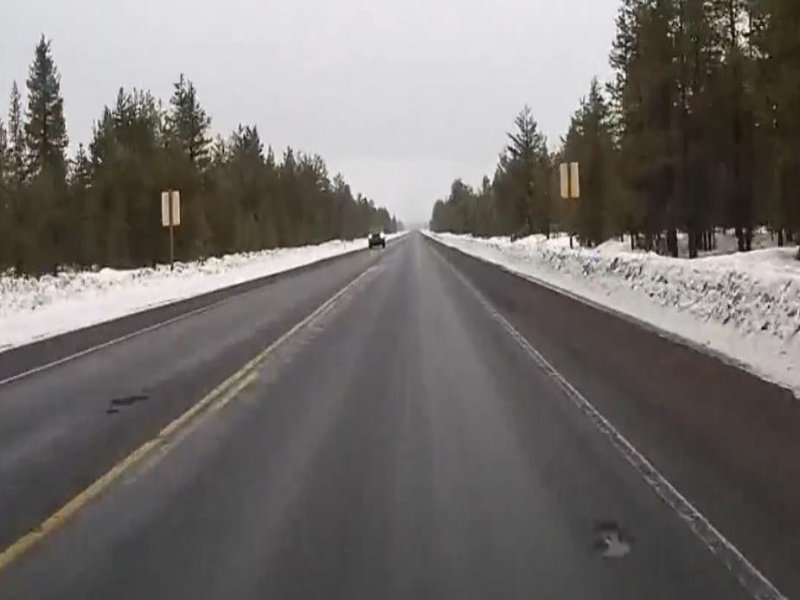pothole: (588, 519, 640, 567)
